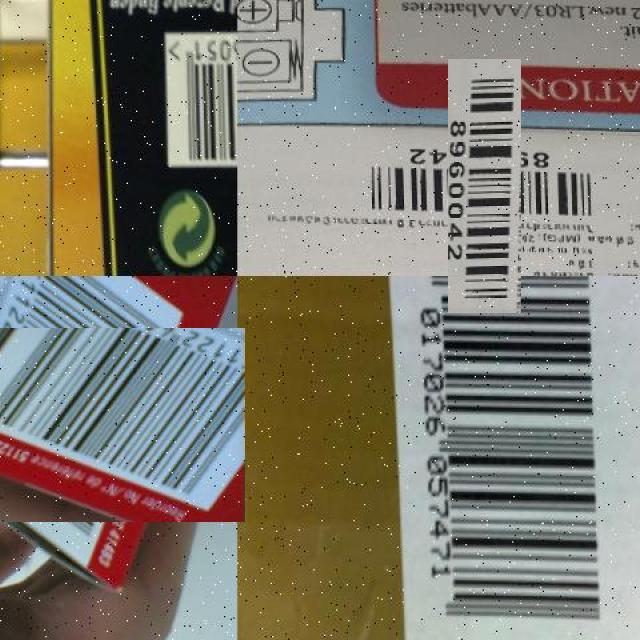Barcode: (401, 276, 615, 640), (0, 302, 220, 548), (403, 104, 566, 269), (167, 31, 237, 177)
